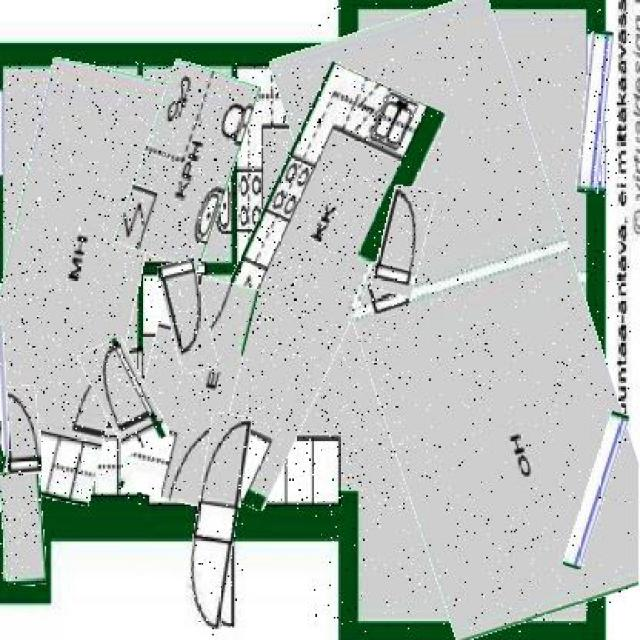door: (188, 412, 243, 637), (90, 338, 158, 454), (376, 188, 430, 298), (164, 262, 213, 372), (3, 386, 40, 474)
window: (576, 411, 618, 571), (582, 31, 609, 194), (0, 323, 8, 457)
zone: (314, 1, 631, 632), (191, 65, 403, 509), (0, 61, 160, 502), (132, 274, 246, 504), (129, 63, 246, 266), (0, 471, 45, 586)
